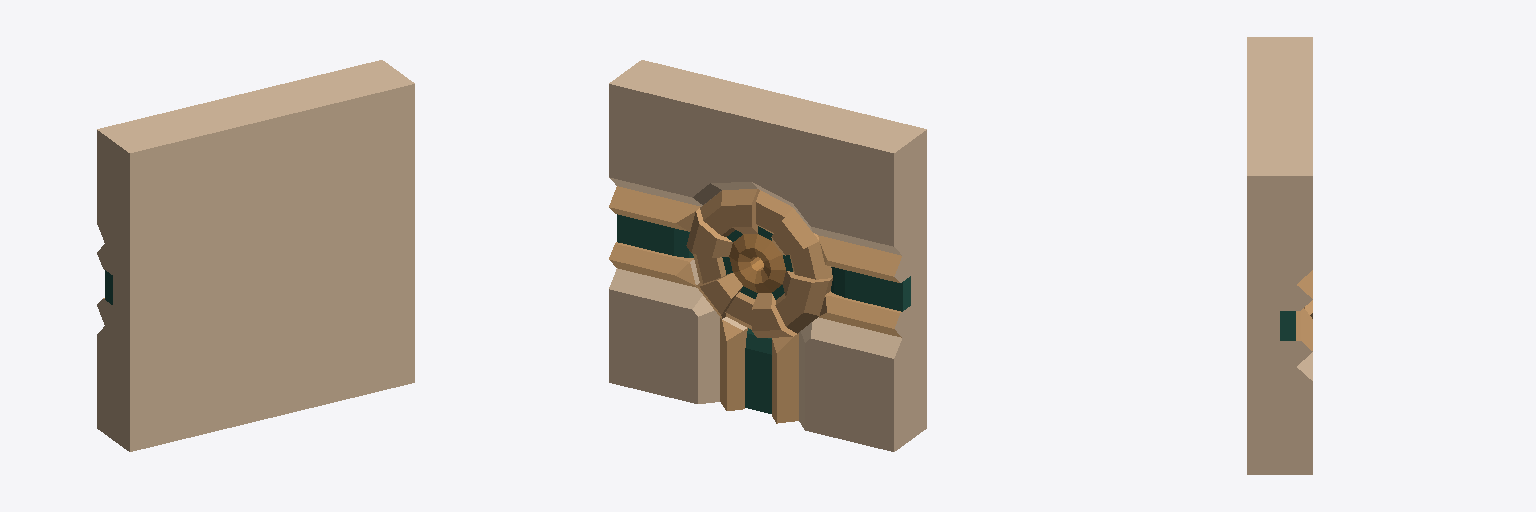
The model's file is Puzzle_Wall_Conduit_Emitter_TJoint.obj.
3 views of the same model, side by side, from view 1: azimuth 30°, elevation 25°; view 2: azimuth 150°, elevation 25°; view 3: azimuth 270°, elevation 25° (orthographic).
Parts seen in each view (by area): view 1: object6; view 2: object6, object3, object1, object4, object5, object2; view 3: object6.
Part boxes in pixels (left/top/right/bottom): object6: left=97, top=60, right=414, bottom=451; object6: left=609, top=60, right=926, bottom=451; object3: left=686, top=189, right=832, bottom=337; object1: left=831, top=267, right=910, bottom=311; object4: left=745, top=328, right=771, bottom=413; object5: left=617, top=214, right=693, bottom=257; object2: left=722, top=226, right=792, bottom=299; object6: left=1247, top=37, right=1312, bottom=474.
Size of the model in its own units: 1 by 1 by 0.2.